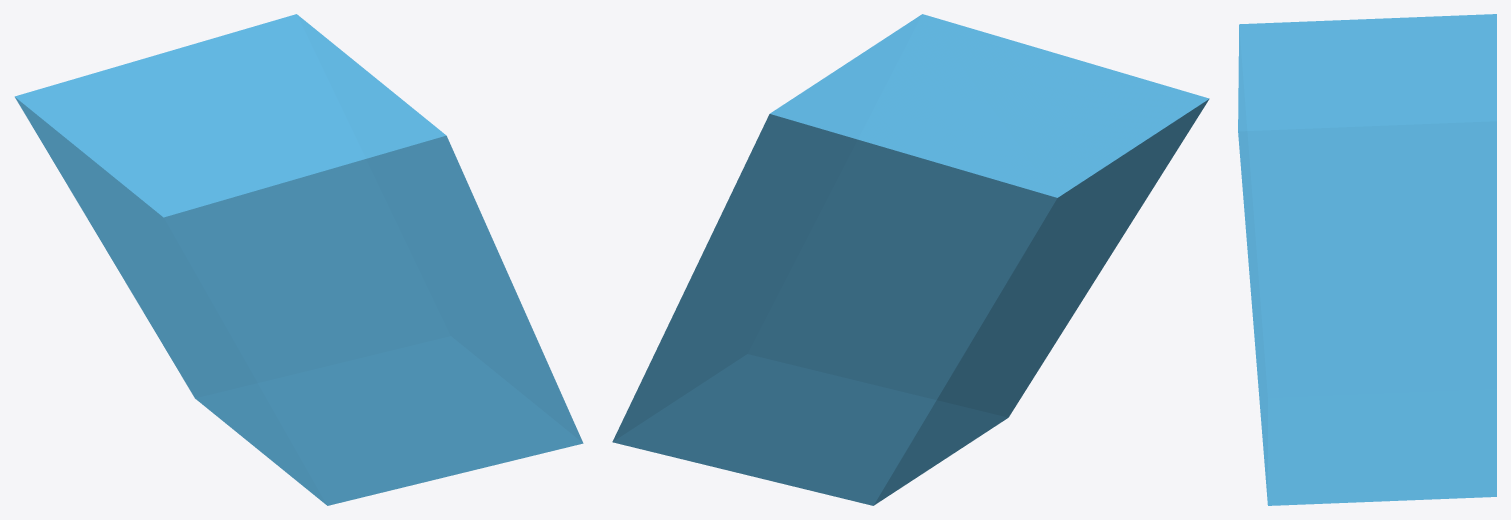
File: Event_421364160_HBrechit_15.fbx
The picture shows the model from 3 angles, left to right: view 1: azimuth 30°, elevation 25°; view 2: azimuth 150°, elevation 25°; view 3: azimuth 270°, elevation 25°; orthographic projection. The views are drawn at different scales.
Parts seen in each view (by area): view 1: Model; view 2: Model; view 3: Model.
Part boxes in pixels (box(x1,y1,x2,y2)): Model: box(14, 14, 583, 505); Model: box(612, 14, 1209, 505); Model: box(1238, 14, 1496, 505).
Bounding box in the file's own units: 0.763 × 0.6181 × 0.4536.
